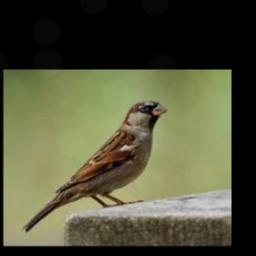Sparrow: (21, 101, 167, 232)
